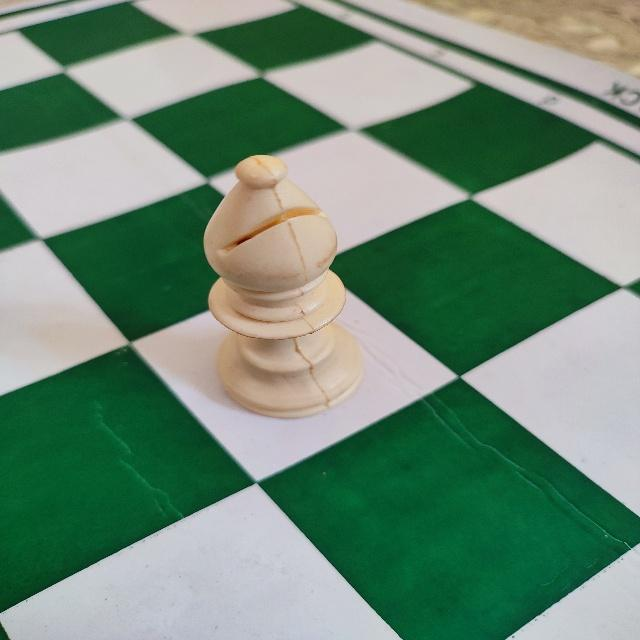Bishop: (197, 150, 371, 420)
